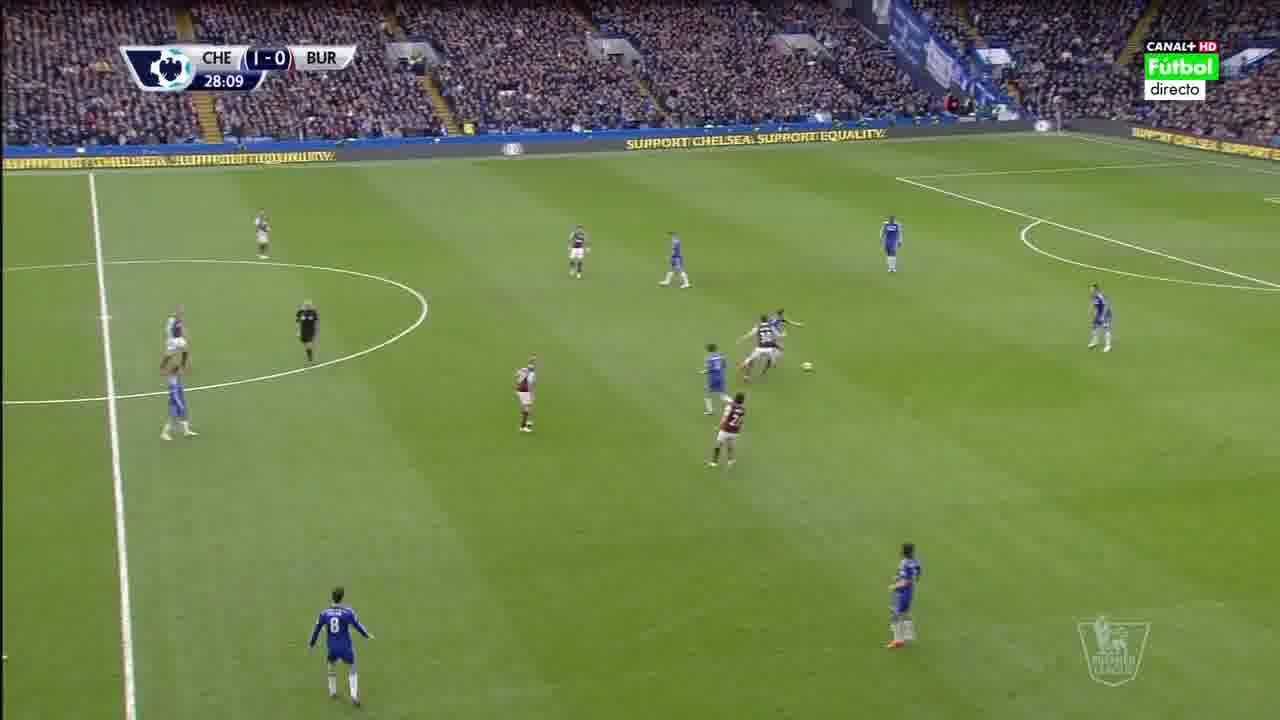football: (800, 360, 816, 374)
